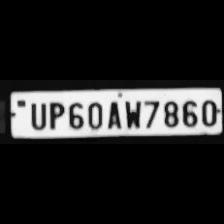0: (85, 98, 105, 128), (198, 97, 218, 127)
6: (64, 98, 84, 130), (179, 96, 199, 128)
7: (141, 97, 158, 128)
8: (159, 97, 179, 127)
A: (104, 97, 122, 129)
P: (44, 99, 64, 129)
U: (25, 98, 47, 130)
W: (121, 97, 141, 129)
